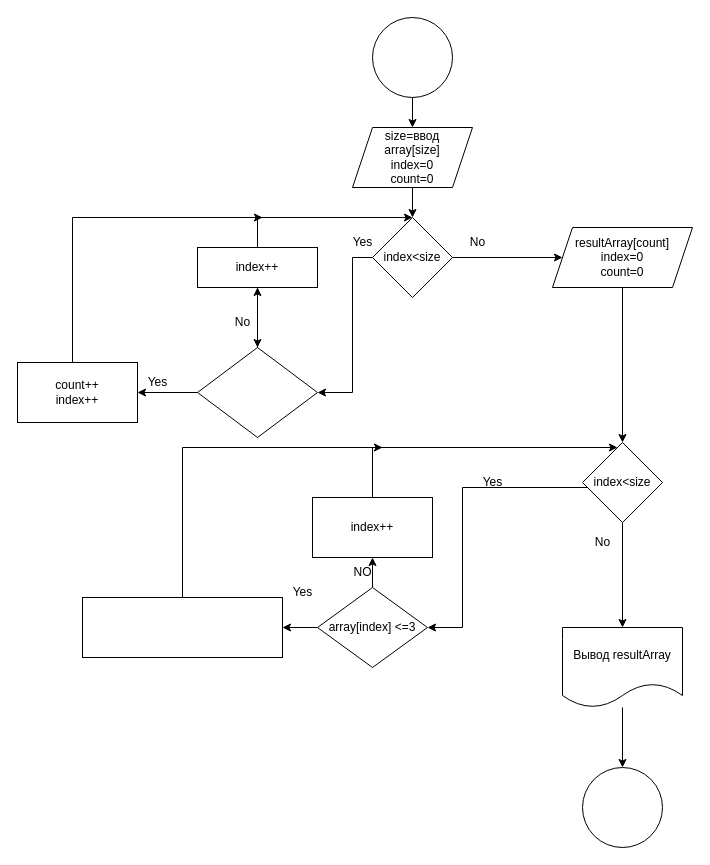
This 710x865 diagram has some shape labels left out. Here are the shapes that lost their labels. From the top down, the centre of each, then its label:
At [412,57]: "start".
At [257,392]: "array[index}<=3".
At [182,627]: "resultArray[count]=array[index] count++ index++".
At [622,807]: "end".
